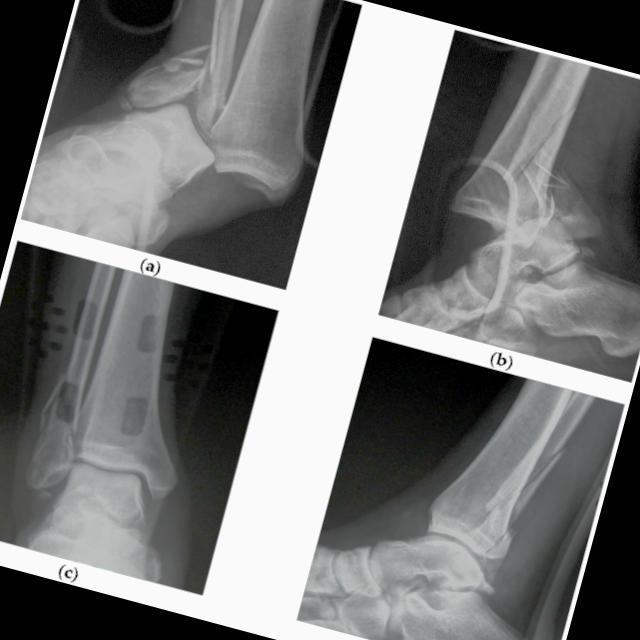Fracture Dislocation: (512, 435, 570, 502), (181, 29, 221, 103)
